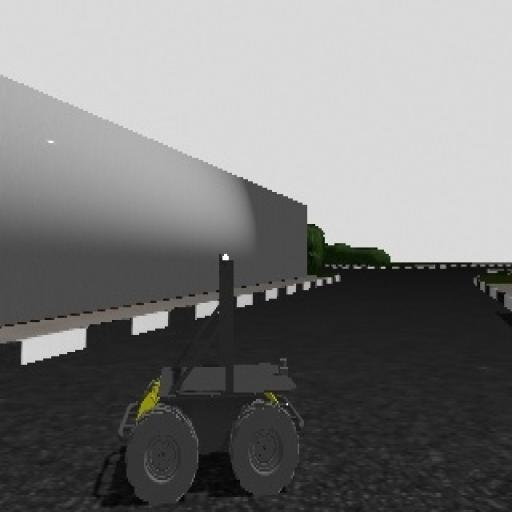huskya200: (76, 237, 334, 507)
